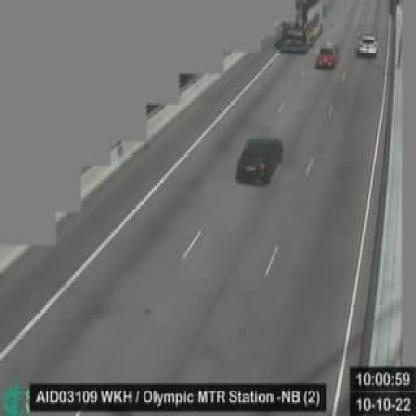Bus: (286, 0, 324, 51)
Car: (234, 136, 283, 186), (316, 40, 339, 68), (357, 31, 377, 57)
